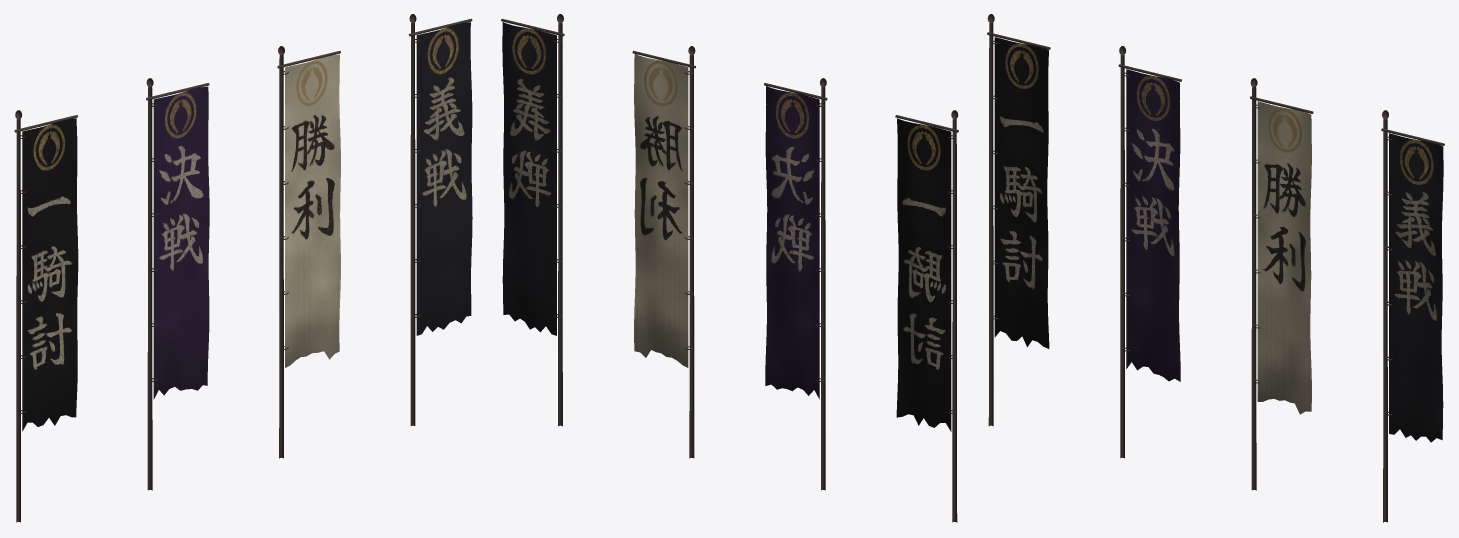
Rendered from nobori.glb.
3 renders of one model, left to right at view 1: azimuth 30°, elevation 25°; view 2: azimuth 150°, elevation 25°; view 3: azimuth 330°, elevation 25°, orthographic.
Parts seen in each view (by area): view 1: Nobori1_Cloth, Nobori3_Cloth, Nobori0_Cloth, Nobori2_Cloth, Nobori3_Pole, Nobori1_Pole, Nobori2_Pole, Nobori0_Pole; view 2: Nobori0_Cloth, Nobori2_Cloth, Nobori1_Cloth, Nobori3_Cloth, Nobori2_Pole, Nobori1_Pole, Nobori0_Pole, Nobori3_Pole; view 3: Nobori0_Cloth, Nobori2_Cloth, Nobori1_Cloth, Nobori3_Cloth, Nobori2_Pole, Nobori1_Pole, Nobori0_Pole, Nobori3_Pole.
Part boxes in pixels (box(x1,y1,x2,y2)): Nobori1_Cloth: box(153, 86, 209, 399); Nobori3_Cloth: box(416, 22, 472, 335); Nobori0_Cloth: box(22, 118, 78, 431); Nobori2_Cloth: box(285, 54, 340, 367); Nobori3_Pole: box(408, 14, 472, 425); Nobori1_Pole: box(146, 78, 209, 490); Nobori2_Pole: box(277, 46, 340, 458); Nobori0_Pole: box(14, 110, 77, 522); Nobori0_Cloth: box(896, 118, 951, 431); Nobori2_Cloth: box(634, 54, 688, 367); Nobori1_Cloth: box(765, 86, 819, 399); Nobori3_Cloth: box(502, 22, 556, 335); Nobori2_Pole: box(632, 46, 695, 458); Nobori1_Pole: box(764, 78, 827, 490); Nobori0_Pole: box(895, 110, 958, 522); Nobori3_Pole: box(501, 14, 564, 426); Nobori0_Cloth: box(994, 37, 1049, 348); Nobori2_Cloth: box(1257, 101, 1311, 414); Nobori1_Cloth: box(1126, 69, 1180, 381); Nobori3_Cloth: box(1389, 133, 1443, 442); Nobori2_Pole: box(1250, 78, 1313, 490); Nobori1_Pole: box(1118, 46, 1181, 458); Nobori0_Pole: box(987, 14, 1050, 426); Nobori3_Pole: box(1381, 110, 1444, 522).
Size of the model in its own units: 5.21 by 4.5 by 0.07.
8 materials, 4 textured.
